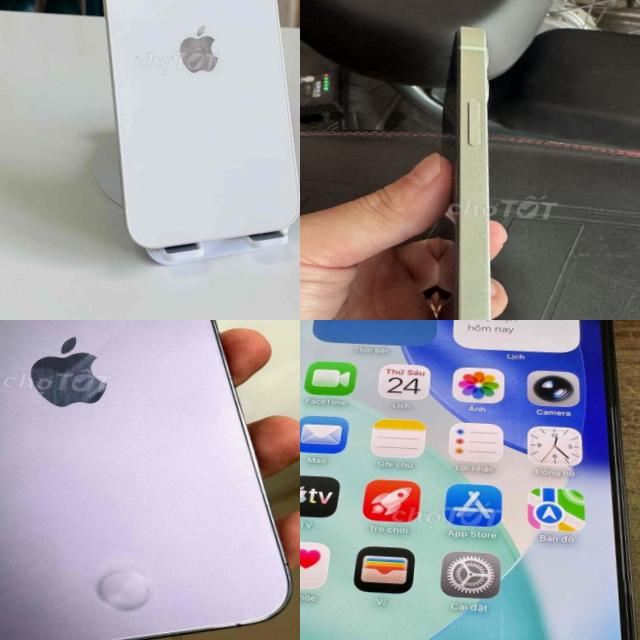gen_12_13: (409, 8, 534, 320)
gen_14: (0, 320, 300, 640), (77, 0, 300, 250)
gen_15: (300, 320, 640, 640)
physical_damage: (91, 560, 156, 618)
